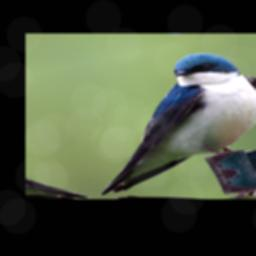Swallow: (37, 44, 256, 197)
